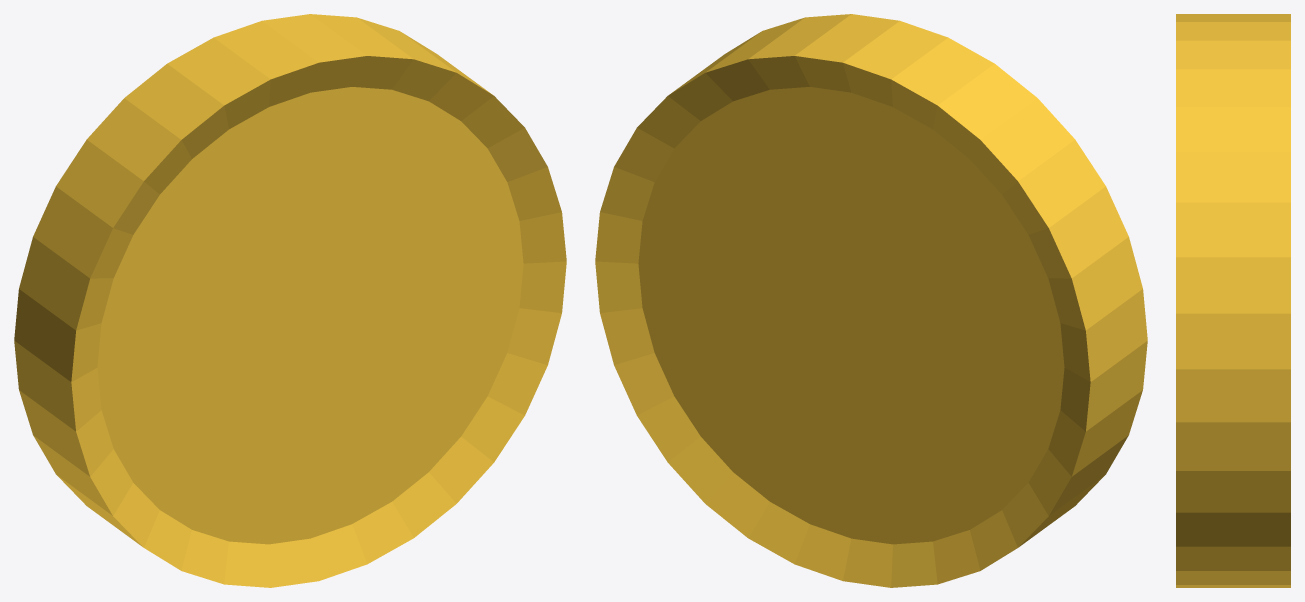
File: coin.glb
The picture shows the model from 3 angles, left to right: view 1: azimuth 30°, elevation 25°; view 2: azimuth 150°, elevation 25°; view 3: azimuth 270°, elevation 25°; orthographic projection.
Parts seen in each view (by area): view 1: coin; view 2: coin; view 3: coin.
Boxes of the visible parts, <box> form: coin: <box>14,14,566,587</box>; coin: <box>595,14,1147,587</box>; coin: <box>1176,14,1290,587</box>.
Bounding box in the file's own units: 0.3 × 0.3 × 0.06.
